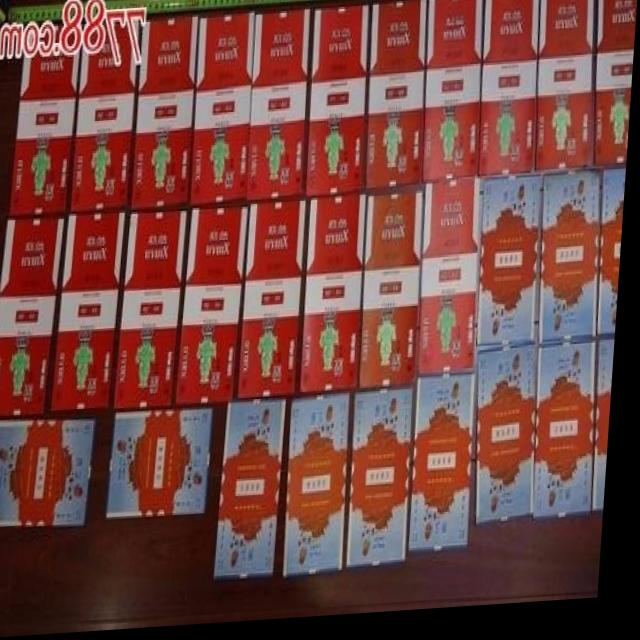box: (57, 213, 128, 412), (121, 213, 190, 411), (182, 210, 251, 405), (0, 222, 68, 417), (243, 207, 309, 402), (246, 11, 311, 204), (364, 195, 427, 394), (307, 198, 370, 397), (135, 21, 200, 212), (192, 14, 256, 207), (221, 405, 291, 581), (75, 23, 139, 213), (292, 400, 357, 580), (424, 185, 484, 379), (309, 6, 369, 199), (111, 414, 220, 520), (355, 393, 418, 571), (418, 383, 482, 555), (425, 0, 483, 186), (483, 184, 544, 360), (481, 352, 541, 530), (541, 349, 601, 527), (0, 421, 100, 527), (481, 0, 540, 179), (12, 53, 78, 213), (370, 5, 426, 193), (537, 0, 596, 178), (546, 179, 603, 350), (597, 0, 638, 171), (605, 180, 628, 343), (602, 349, 620, 517)
